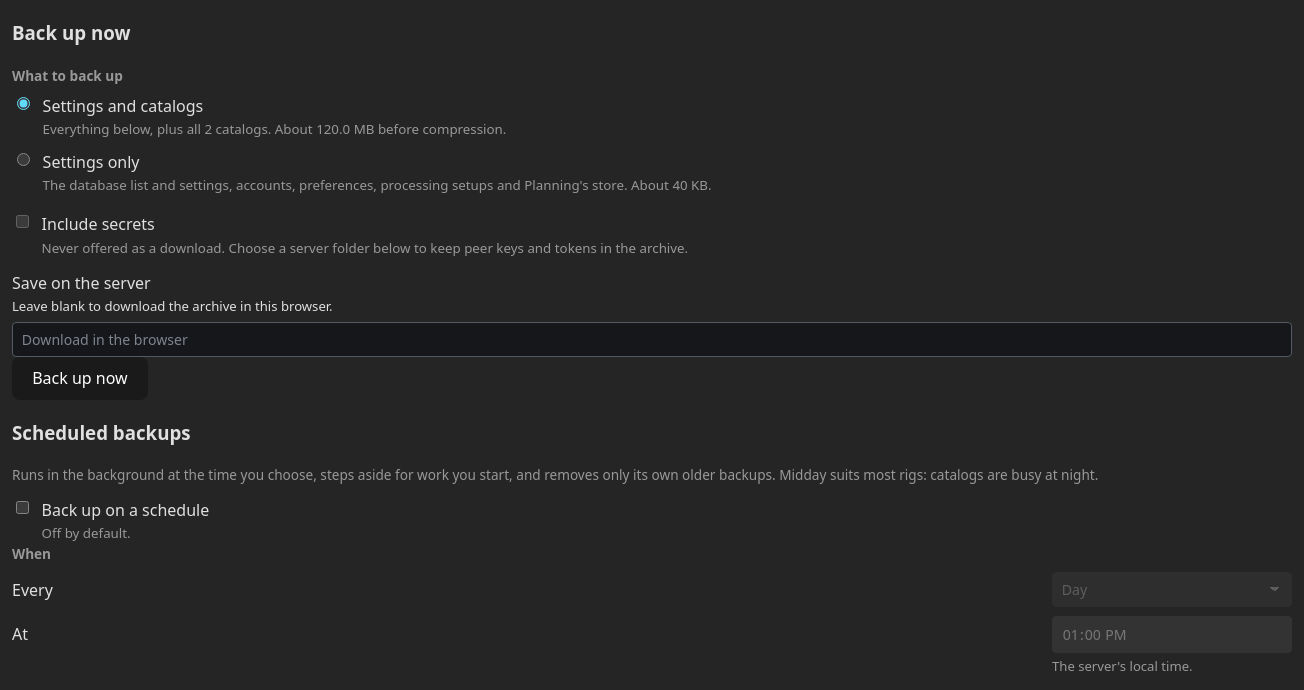
Test: BackupSettings › backs up now for download, then shows the run with a stop
The width and height of the screenshot is (1304, 690).
Expected: the text "all 2 catalogs" shows "About 120.0 MB", [43, 120, 506, 140]
Expected: the text "Never offered as a download" is shown, [42, 239, 688, 257]
What coordinates should you click on to do the following:
click the button "Back up now"
I would click on:
 (80, 378)
Its box is [12, 357, 148, 400].
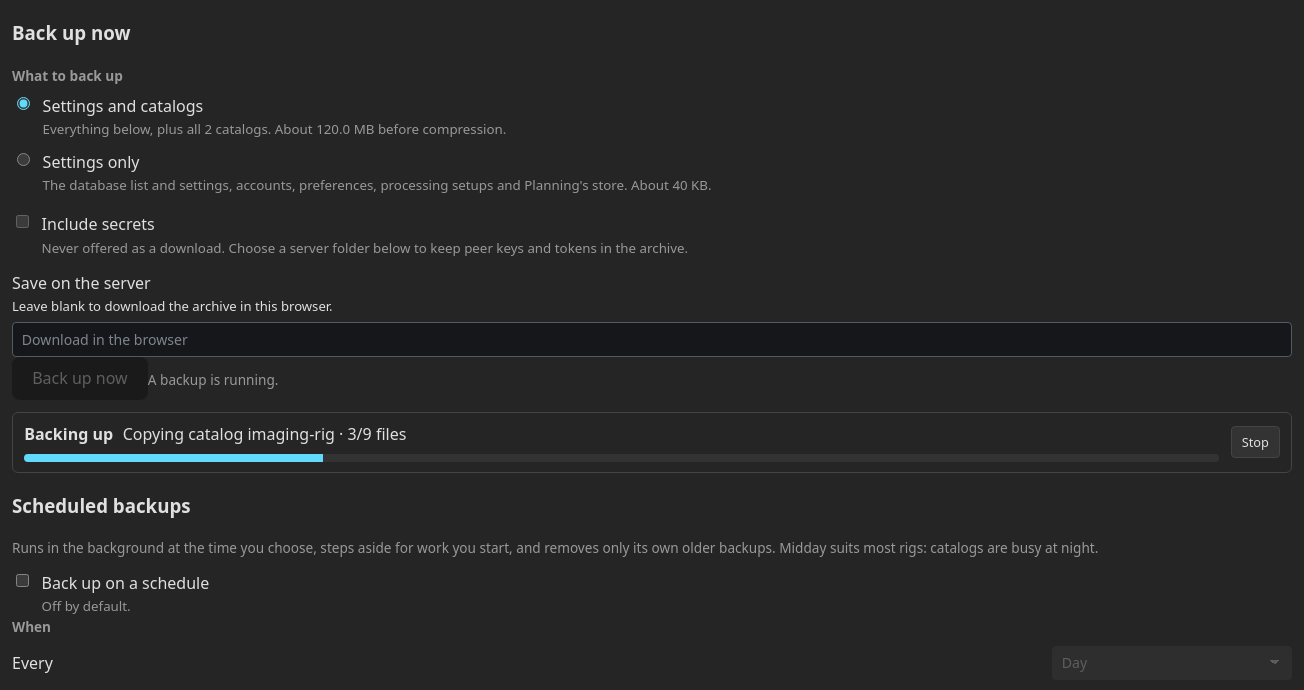
Now the text "Copying catalog imaging-rig · 3/9 files" is shown, box [123, 422, 406, 446]
Now the button "Back up now" is disabled, box [12, 357, 148, 400]
What coordinates should you click on to do the following:
click the button "Stop"
I would click on:
 (1255, 442)
Its box is [1231, 426, 1280, 458].
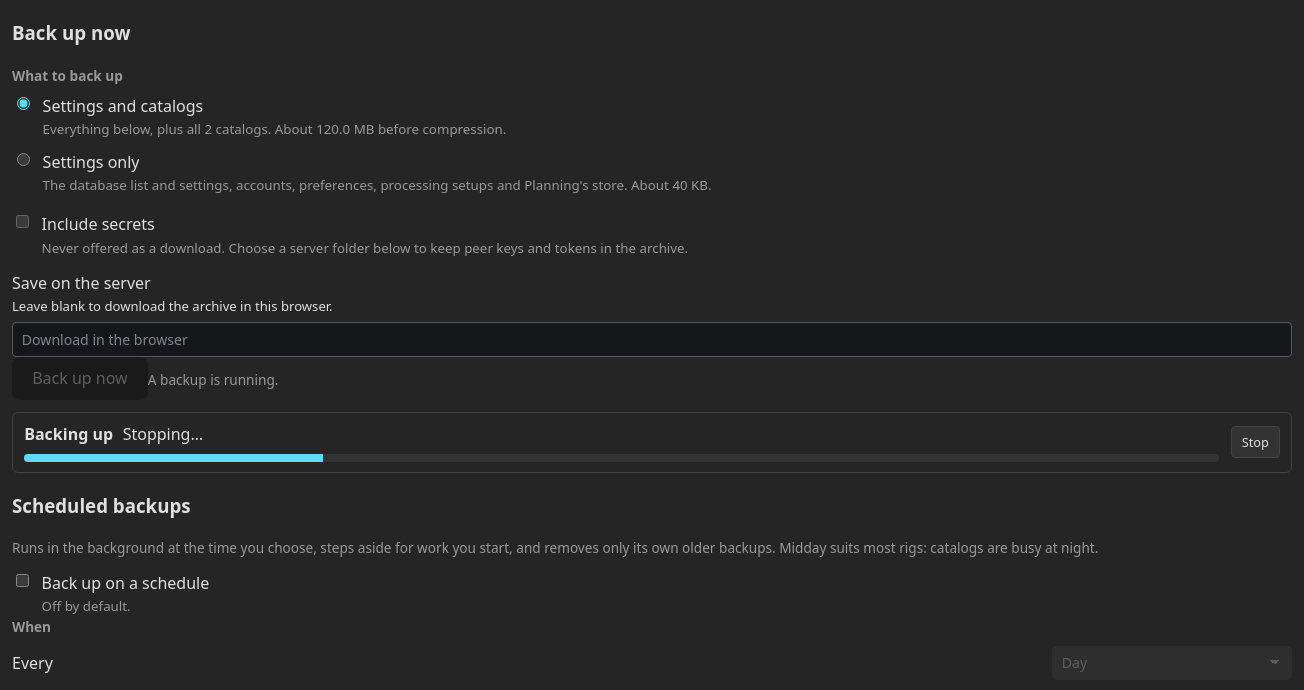
Now the text "Stopping…" is shown, box [123, 422, 203, 446]
